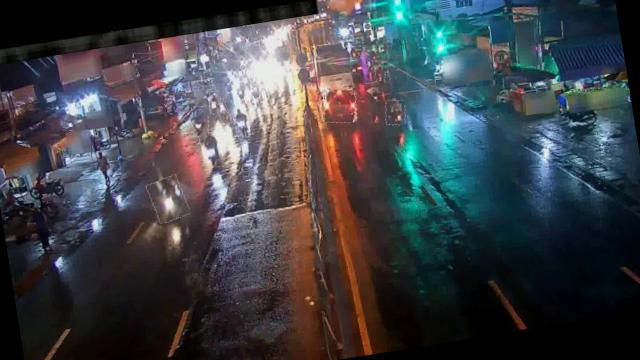Bike: (148, 175, 188, 224), (200, 130, 224, 169), (384, 98, 409, 126), (190, 105, 211, 137), (232, 106, 252, 138), (215, 96, 232, 126), (208, 90, 223, 114), (366, 80, 382, 102), (373, 65, 387, 84)
Car: (322, 83, 359, 125)
Truck: (311, 41, 356, 92)
